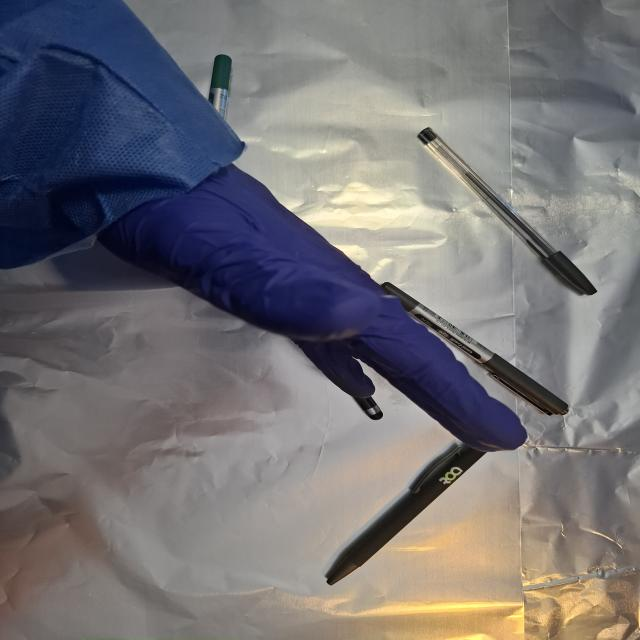glove_on: (88, 156, 532, 455)
